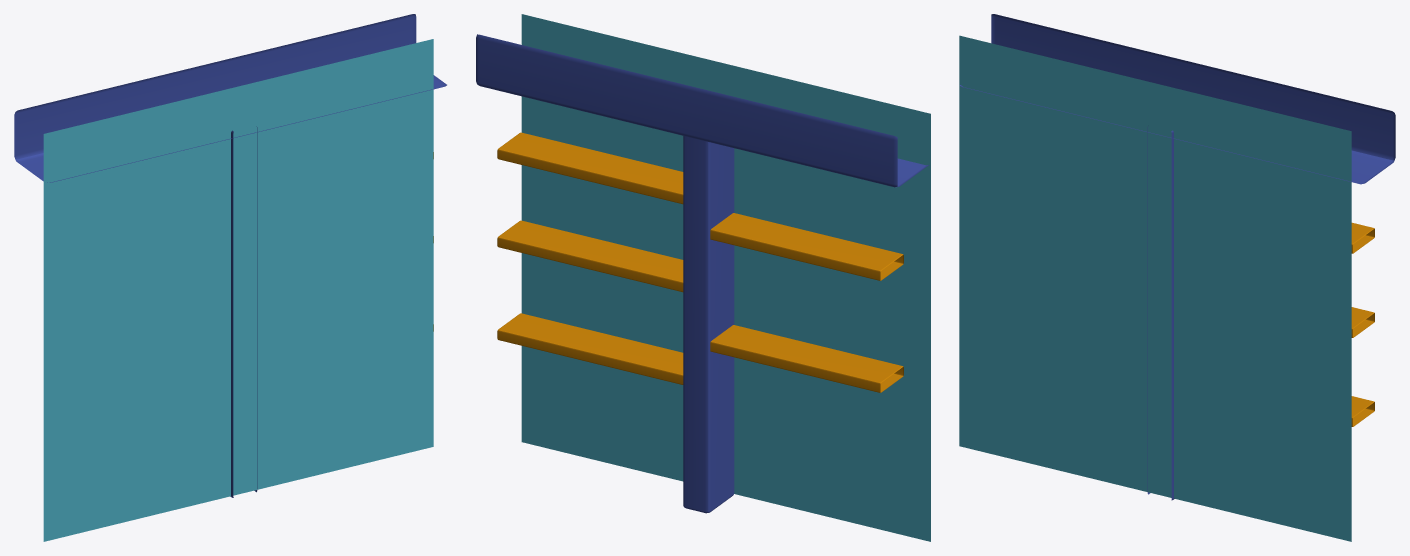
Rendered from SM_Hous2Front_1Floor.fbx.
3 renders of one model, left to right at view 1: azimuth 30°, elevation 25°; view 2: azimuth 150°, elevation 25°; view 3: azimuth 330°, elevation 25°, orthographic. The views are drawn at different scales.
Parts seen in each view (by area): view 1: SM_Hous2Front_1Floor; view 2: SM_Hous2Front_1Floor; view 3: SM_Hous2Front_1Floor.
Boxes of the visible parts, left/top/right/bottom form: SM_Hous2Front_1Floor: left=14, top=14, right=446, bottom=541; SM_Hous2Front_1Floor: left=476, top=14, right=930, bottom=541; SM_Hous2Front_1Floor: left=959, top=14, right=1395, bottom=541.
Size of the model in its own units: 3.1 by 3.01 by 0.4418.
